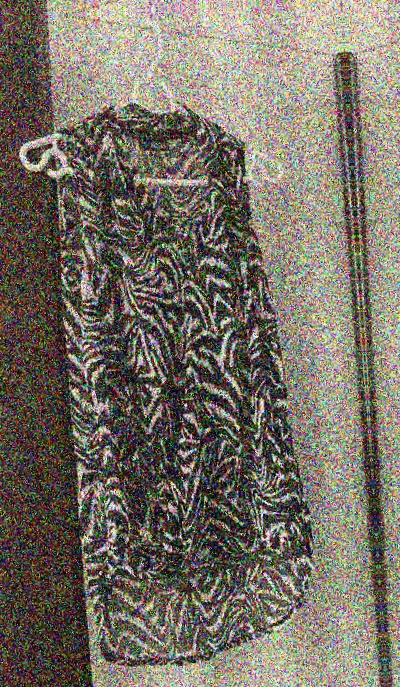Dress: (0, 75, 348, 686), (383, 50, 400, 661)
